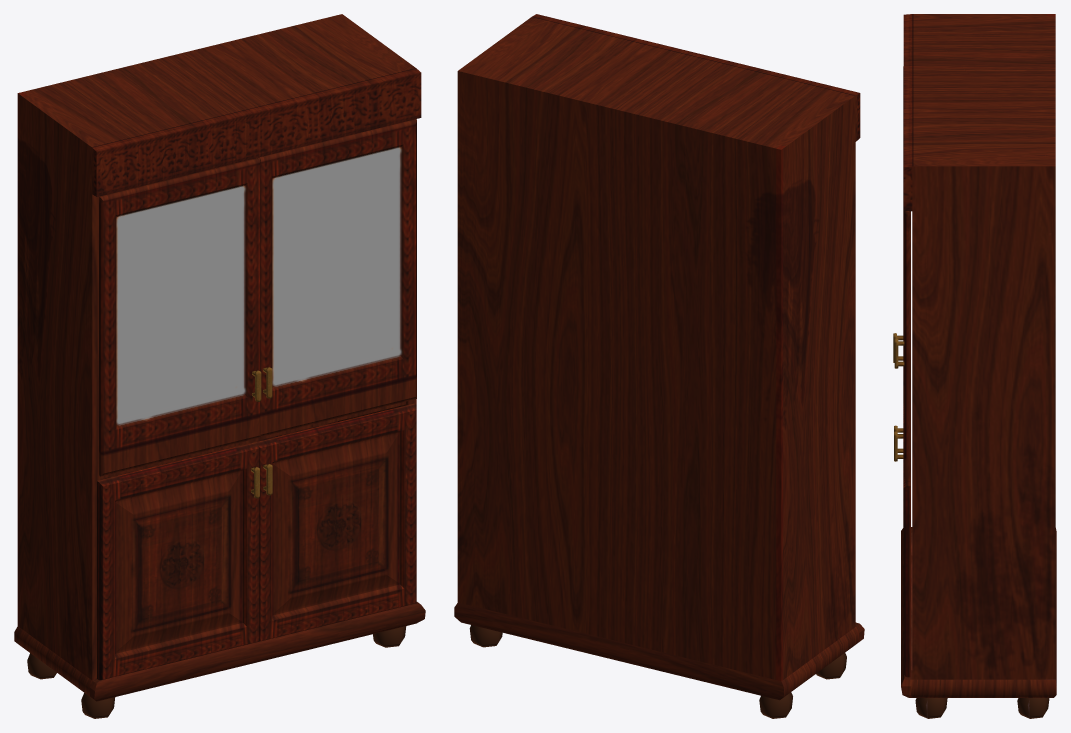
File: Prop_GlassCabinet_Model_02.fbx
The picture shows the model from 3 angles, left to right: view 1: azimuth 30°, elevation 25°; view 2: azimuth 150°, elevation 25°; view 3: azimuth 270°, elevation 25°; orthographic projection. The views are drawn at different scales.
Visible parts, largest first — view 1: polySurface41, polySurface49, polySurface47, polySurface26, polySurface22, polySurface33, polySurface36, polySurface44; view 2: polySurface41, polySurface40; view 3: polySurface41, polySurface36, polySurface47, polySurface39, polySurface38, polySurface33.
Part boxes in pixels (<box>): polySurface41: <box>14,14,425,701</box>; polySurface49: <box>97,442,259,680</box>; polySurface47: <box>256,403,416,641</box>; polySurface26: <box>116,186,244,425</box>; polySurface22: <box>272,147,400,386</box>; polySurface33: <box>99,157,260,476</box>; polySurface36: <box>256,119,416,436</box>; polySurface44: <box>100,401,405,478</box>; polySurface41: <box>454,14,864,700</box>; polySurface40: <box>759,692,792,718</box>; polySurface41: <box>901,14,1056,697</box>; polySurface36: <box>904,211,910,480</box>; polySurface47: <box>903,414,910,677</box>; polySurface39: <box>1017,698,1049,718</box>; polySurface38: <box>915,698,947,718</box>; polySurface33: <box>903,66,904,404</box>.
Size of the model in its own units: 120 by 200 by 53.23.
